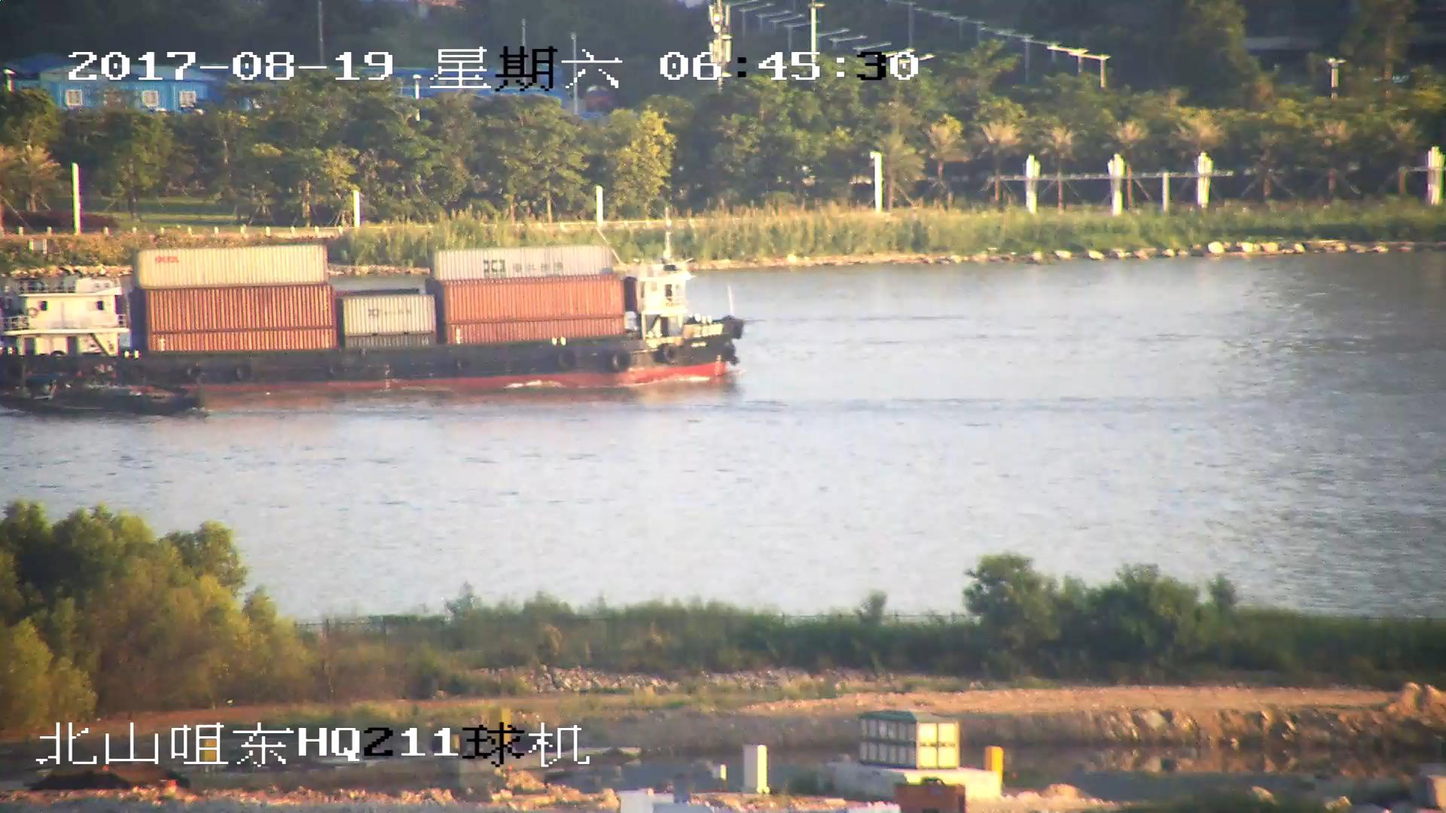container ship: (0, 233, 737, 395)
fishing boat: (7, 385, 205, 422)
